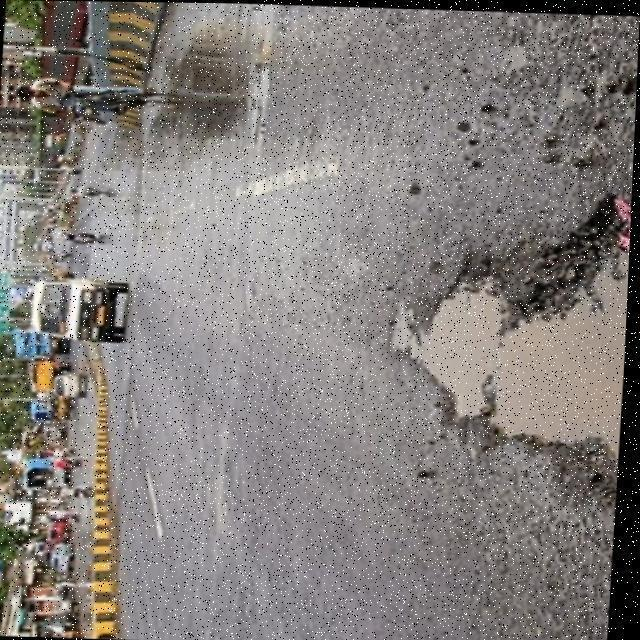Pothole: (389, 200, 611, 489)
